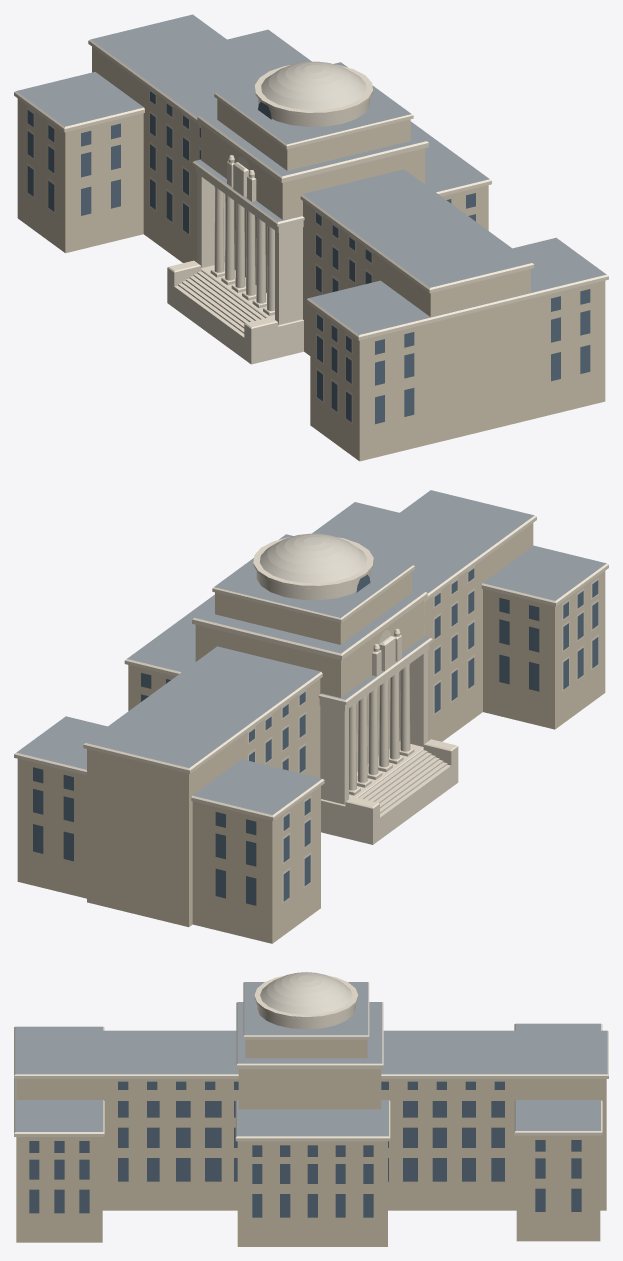
Rendered from cola-mckissick-museum.glb.
3 views of the same model, one above another, from view 1: azimuth 30°, elevation 25°; view 2: azimuth 150°, elevation 25°; view 3: azimuth 270°, elevation 25° (orthographic). The views are drawn at different scales.
Parts seen in each view (by area): view 1: McKissick Museum; view 2: McKissick Museum; view 3: McKissick Museum.
Boxes of the visible parts, x1,y1,x2,y2 form: McKissick Museum: (14, 14, 608, 461); McKissick Museum: (14, 490, 608, 943); McKissick Museum: (14, 972, 608, 1246).
Bounding box in the file's own units: 29.1 × 25.12 × 64.2.
